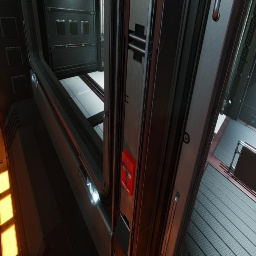FireAlarm ,: (121, 148, 136, 196)
